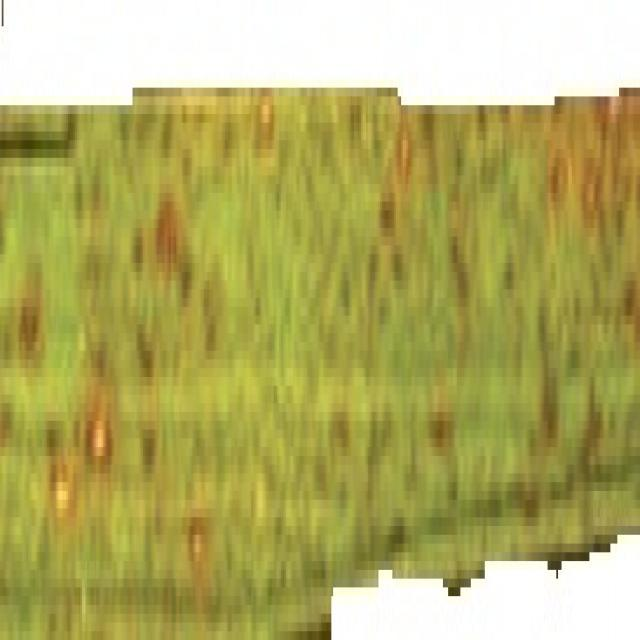Leafsmut: (152, 196, 186, 270), (578, 150, 602, 229), (81, 243, 108, 303), (17, 305, 42, 357), (427, 401, 452, 448), (187, 515, 210, 564), (548, 159, 569, 210), (620, 277, 639, 328), (520, 482, 544, 522), (347, 100, 367, 148), (331, 410, 352, 453), (178, 258, 195, 307), (378, 197, 398, 236), (140, 431, 158, 471), (594, 95, 614, 131), (502, 254, 516, 297), (130, 231, 145, 271), (44, 426, 62, 456), (91, 424, 107, 454), (259, 100, 273, 128), (54, 485, 70, 507), (607, 96, 621, 118)
